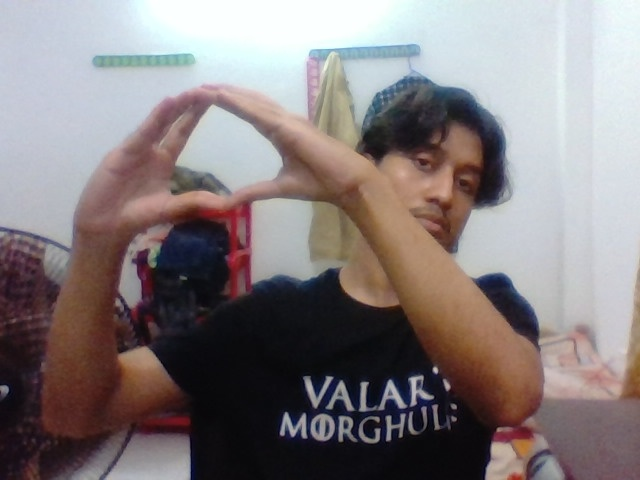O: (92, 76, 319, 222)
